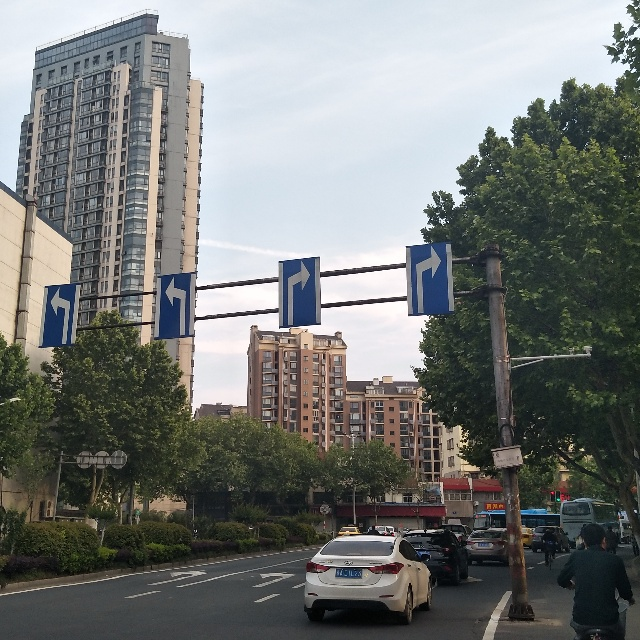left: (159, 275, 194, 340), (42, 285, 78, 347)
right: (403, 244, 450, 311), (283, 259, 320, 329)
